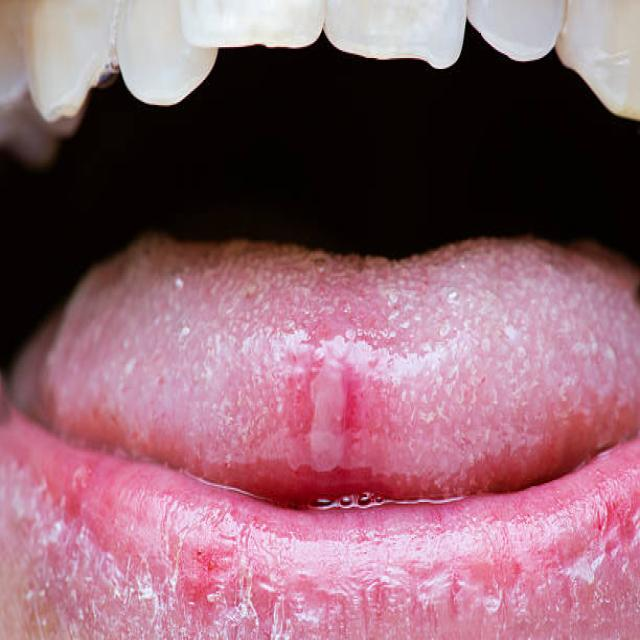processing_area: (6, 244, 639, 638)
ulcer-detection: (252, 279, 461, 484)
